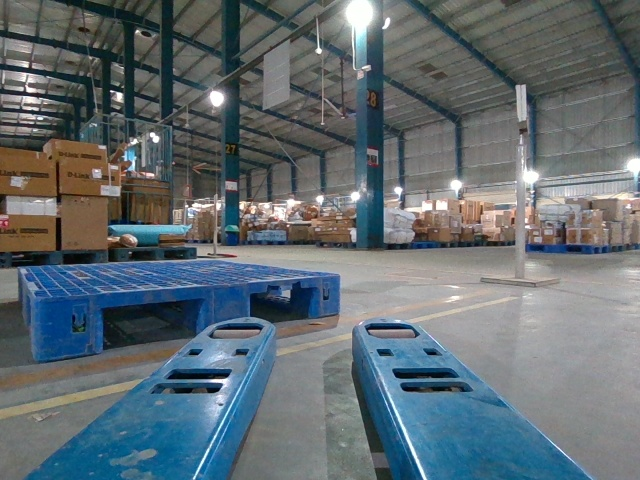block: (34, 291, 102, 360), (195, 283, 253, 333), (311, 274, 340, 319)
front: (32, 275, 341, 362)
hole pallet: (102, 298, 202, 354), (250, 286, 317, 322)
